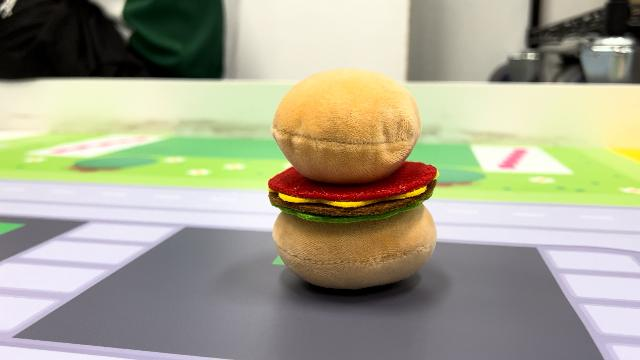burger: (262, 64, 444, 292)
